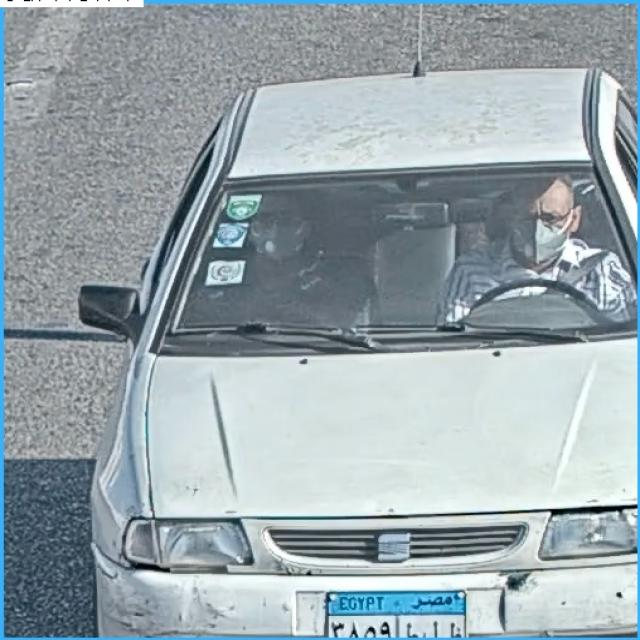windshield: (168, 172, 631, 337)
